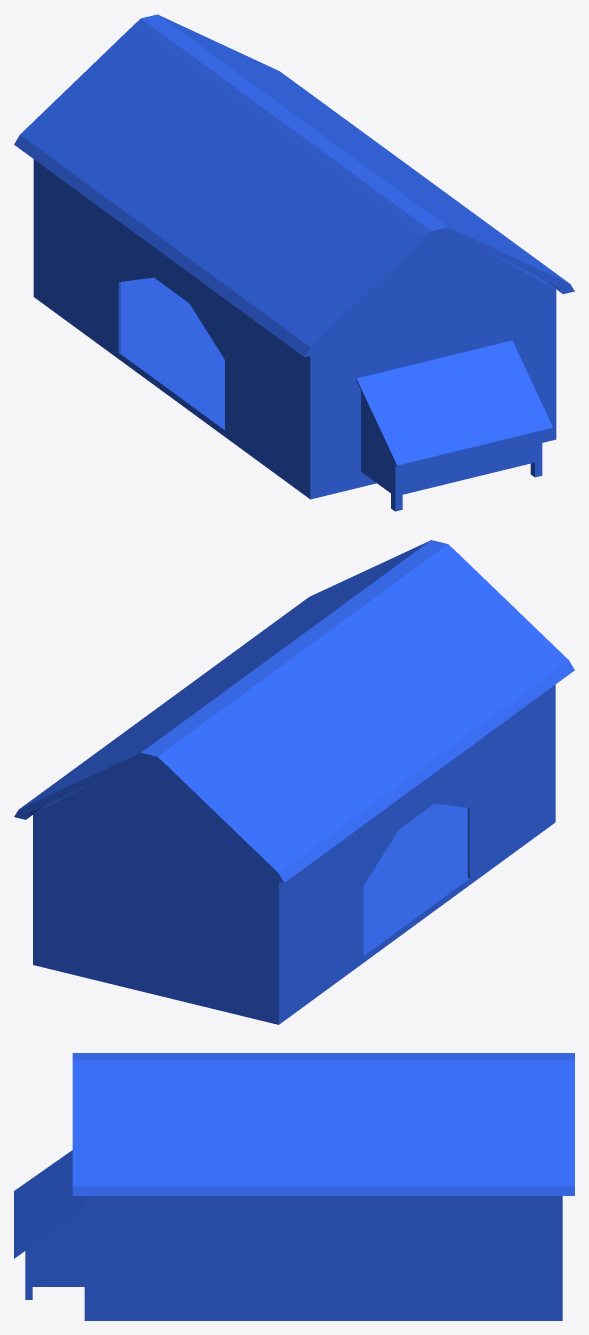
The model's file is Casa Vaca.FBX.
The picture shows the model from 3 angles, top to bottom: view 1: azimuth 30°, elevation 25°; view 2: azimuth 150°, elevation 25°; view 3: azimuth 270°, elevation 25°; orthographic projection. The views are drawn at different scales.
Parts seen in each view (by area): view 1: Casa Vaca; view 2: Casa Vaca; view 3: Casa Vaca.
Part boxes in pixels (x1,y1,x2,y2): Casa Vaca: (14, 14, 574, 511); Casa Vaca: (14, 540, 574, 1024); Casa Vaca: (14, 1053, 574, 1320).
Size of the model in its own units: 220 by 191 by 457.
